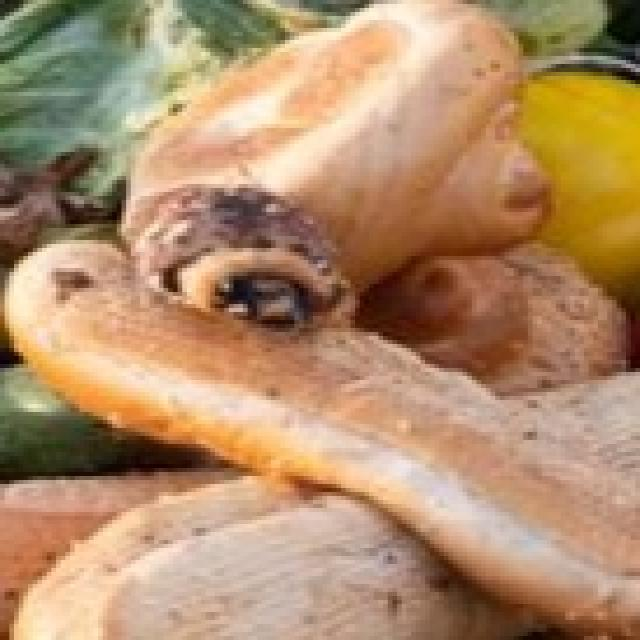food waste: (28, 0, 635, 604)
